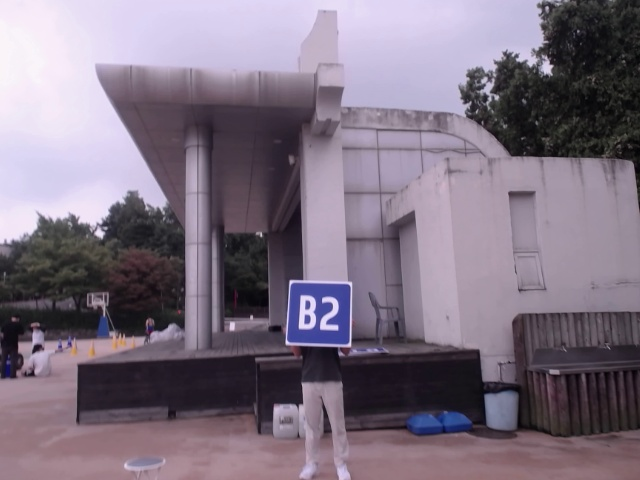delivery_b2: (287, 280, 353, 345)
